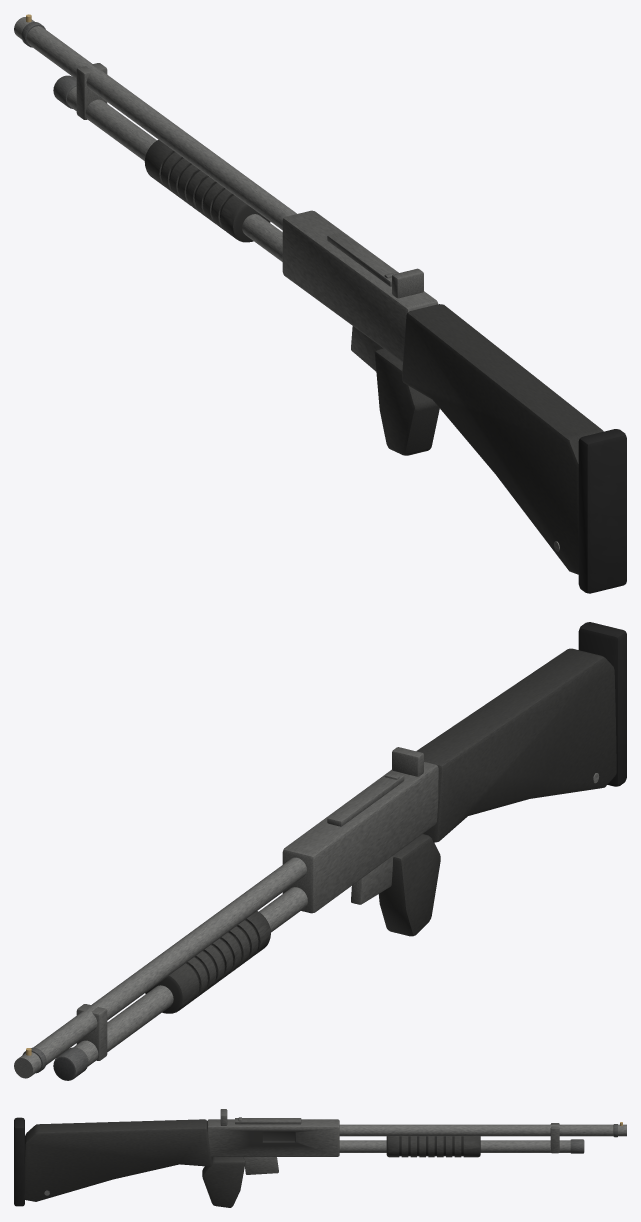
Rendered from SM_WeaponShotgun.fbx.
The picture shows the model from 3 angles, top to bottom: view 1: azimuth 30°, elevation 25°; view 2: azimuth 150°, elevation 25°; view 3: azimuth 270°, elevation 25°; orthographic projection. The views are drawn at different scales.
Visible parts, largest first — view 1: SM_WeaponShotgun; view 2: SM_WeaponShotgun; view 3: SM_WeaponShotgun.
Boxes of the visible parts, x1=… form: SM_WeaponShotgun: x1=14, y1=14, x2=626, y2=593; SM_WeaponShotgun: x1=14, y1=622, x2=626, y2=1080; SM_WeaponShotgun: x1=14, y1=1109, x2=626, y2=1207.
Bounding box in the file's own units: 0.046 × 0.1863 × 1.11.
1 material, 1 textured.
